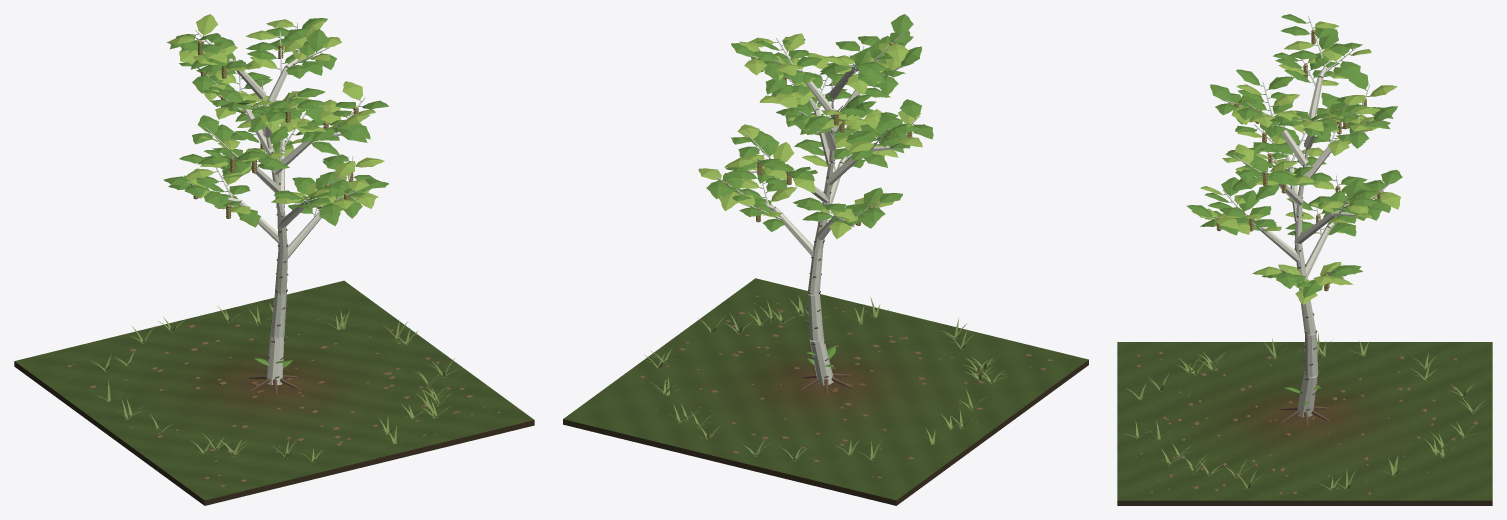
Rendered from birch-tree.glb.
3 views of the same model, side by side, from view 1: azimuth 30°, elevation 25°; view 2: azimuth 150°, elevation 25°; view 3: azimuth 270°, elevation 25° (orthographic). The views are drawn at different scales.
Parts seen in each view (by area): view 1: Static_mesh, TreeTrunk_mesh, BirchLeaves.025_mesh, BirchLeaves.024_mesh, BirchLeaves.017_mesh, BirchLeaves.013_mesh, BirchLeaves.008_mesh, BirchLeaves.015_mesh, BirchLeaves.004_mesh, BirchLeaves.006_mesh, BirchLeaves.028_mesh, BirchLeaves.005_mesh (+14 smaller); view 2: Static_mesh, TreeTrunk_mesh, BirchLeaves.010_mesh, BirchLeaves.014_mesh, BirchLeaves.013_mesh, BirchLeaves.002_mesh, BirchLeaves.001_mesh, BirchLeaves.029_mesh, BirchLeaves.006_mesh, BirchLeaves.012_mesh, BirchLeaves.025_mesh, BirchLeaves.020_mesh (+14 smaller); view 3: Static_mesh, TreeTrunk_mesh, BirchLeaves.029_mesh, BirchLeaves.022_mesh, BirchLeaves.019_mesh, BirchLeaves.007_mesh, BirchLeaves.011_mesh, BirchLeaves.028_mesh, BirchLeaves.002_mesh, BirchLeaves.017_mesh, BirchLeaves.027_mesh, BirchLeaves.008_mesh (+18 smaller).
Part boxes in pixels (box(x1,y1,x2,y2)): Static_mesh: box(14, 280, 534, 505); TreeTrunk_mesh: box(248, 77, 300, 396); BirchLeaves.025_mesh: box(286, 29, 341, 78); BirchLeaves.024_mesh: box(245, 28, 311, 74); BirchLeaves.017_mesh: box(320, 81, 388, 142); BirchLeaves.013_mesh: box(192, 115, 242, 168); BirchLeaves.008_mesh: box(319, 179, 369, 226); BirchLeaves.015_mesh: box(295, 99, 348, 155); BirchLeaves.004_mesh: box(179, 154, 250, 195); BirchLeaves.006_mesh: box(297, 161, 355, 209); BirchLeaves.028_mesh: box(170, 14, 237, 69); BirchLeaves.005_mesh: box(163, 175, 229, 209); Static_mesh: box(563, 278, 1088, 505); TreeTrunk_mesh: box(800, 77, 852, 394); BirchLeaves.010_mesh: box(731, 124, 794, 183); BirchLeaves.014_mesh: box(875, 99, 933, 148); BirchLeaves.013_mesh: box(849, 123, 920, 161); BirchLeaves.002_mesh: box(698, 168, 751, 211); BirchLeaves.001_mesh: box(725, 167, 797, 202); BirchLeaves.029_mesh: box(872, 14, 913, 71); BirchLeaves.006_mesh: box(794, 124, 856, 167); BirchLeaves.012_mesh: box(846, 110, 907, 167); BirchLeaves.025_mesh: box(748, 33, 821, 68); BirchLeaves.020_mesh: box(800, 95, 871, 134); Static_mesh: box(1117, 342, 1492, 505); TreeTrunk_mesh: box(1278, 108, 1330, 426); BirchLeaves.029_mesh: box(1281, 14, 1344, 60); BirchLeaves.022_mesh: box(1236, 69, 1299, 114); BirchLeaves.019_mesh: box(1327, 106, 1397, 155); BirchLeaves.007_mesh: box(1200, 177, 1271, 217); BirchLeaves.011_mesh: box(1350, 169, 1402, 220); BirchLeaves.028_mesh: box(1322, 42, 1371, 80); BirchLeaves.002_mesh: box(1295, 265, 1362, 304); BirchLeaves.017_mesh: box(1231, 160, 1298, 191); BirchLeaves.027_mesh: box(1273, 52, 1338, 85); BirchLeaves.008_mesh: box(1187, 205, 1250, 235).
Bounding box in the file's own units: 3.5 × 3.89 × 3.5.
